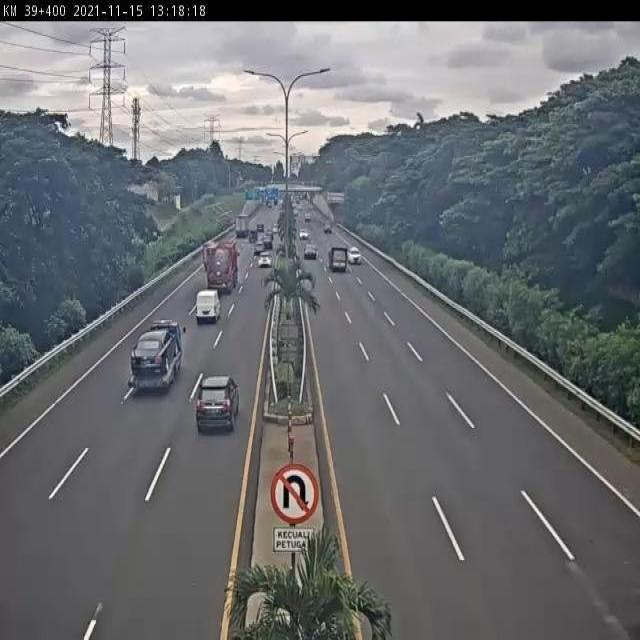Car: (194, 376, 242, 434), (258, 252, 273, 268), (302, 245, 318, 260), (349, 246, 362, 263), (299, 228, 310, 240)
Truck: (126, 321, 188, 397), (205, 240, 240, 296), (328, 243, 348, 274), (234, 215, 250, 238)
Van: (196, 290, 221, 326)
